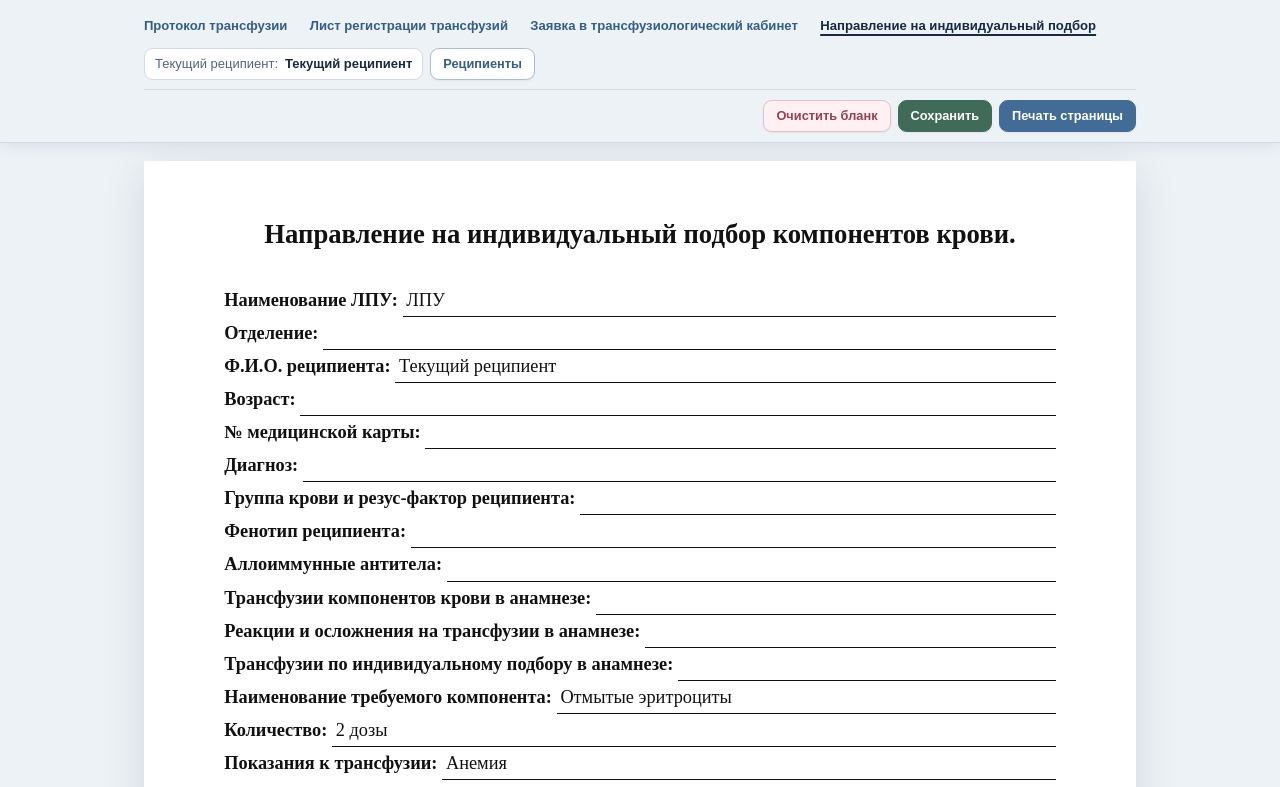
Test case: clears staff after saving while retaining the component, indications and date
Click the button "Сохранить" at (945, 116), box [898,100,992,132]
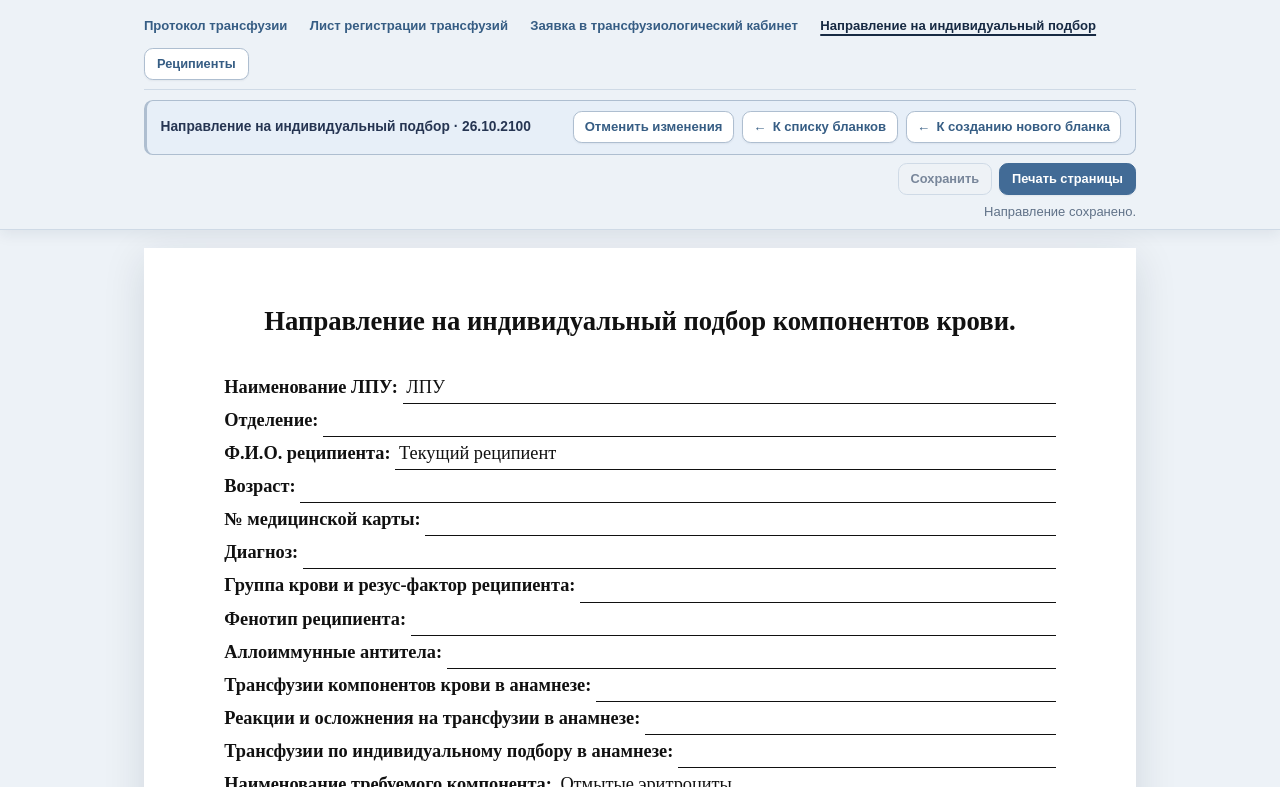
Check: the button "← К созданию нового бланка" is shown
Check: the button "Сохранить" is disabled, box [898,163,992,195]
Click the button "← К созданию нового бланка" at (1013, 127), box [906,111,1121,143]
(page scrolled)
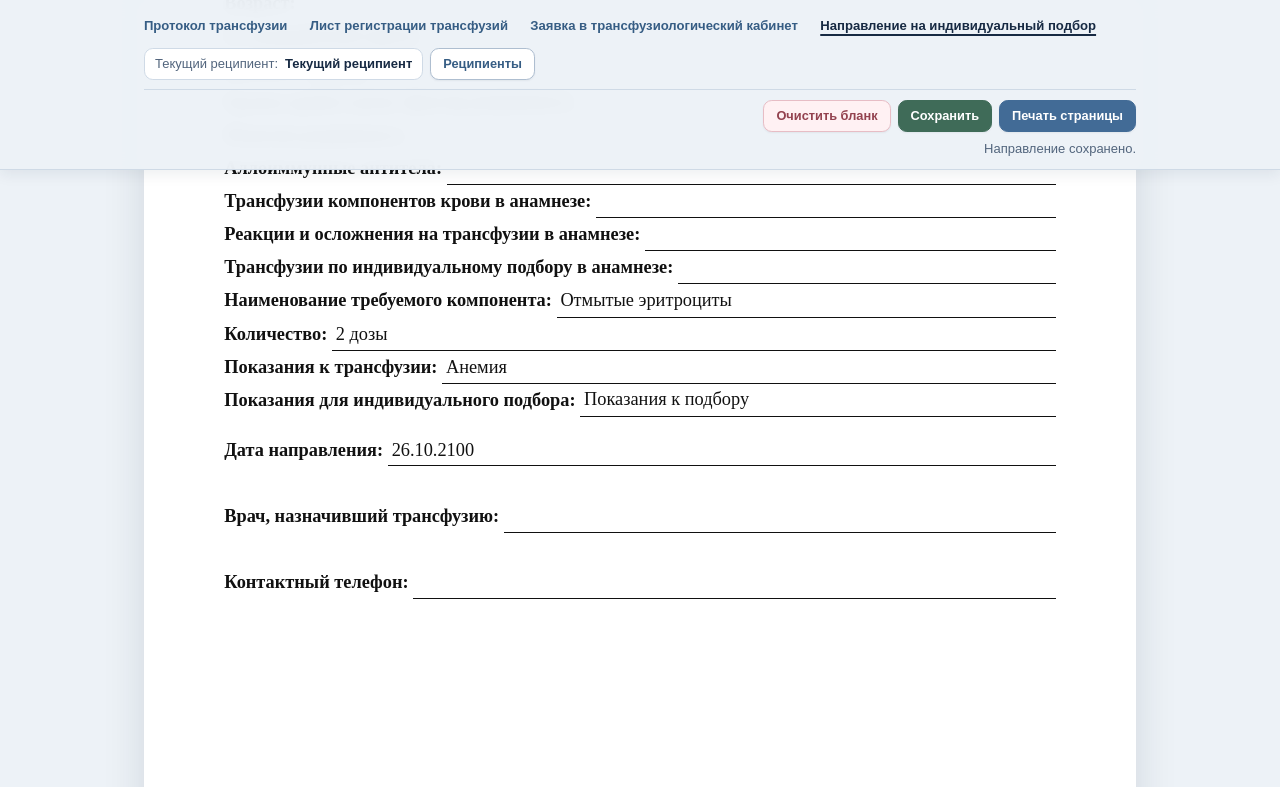
Check: the text "Отмытые эритроциты" is shown, box [557,284,1056,318]
Check: the text "Текущий реципиент" is shown, box [285,56,412,72]
